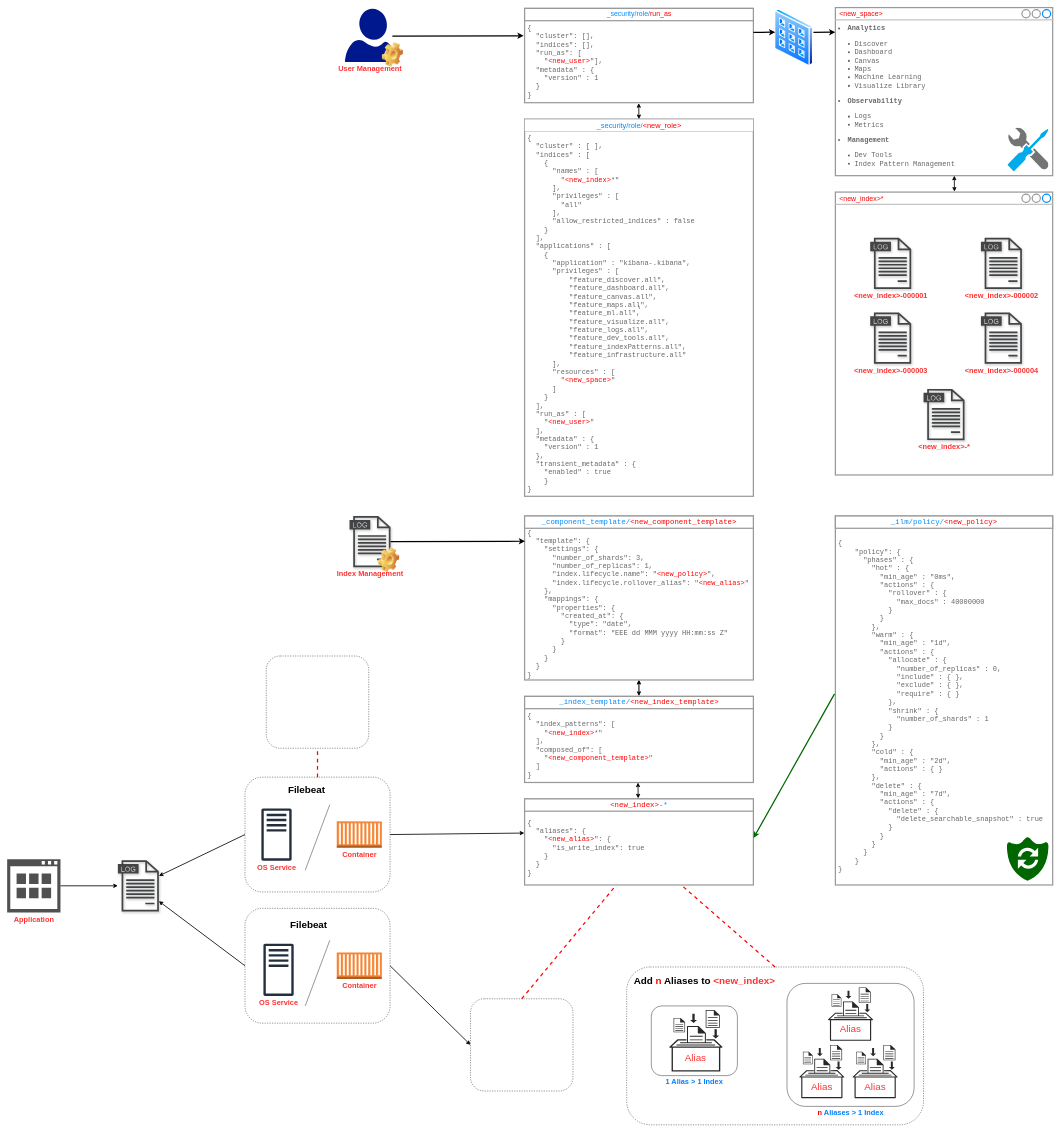
The diagram is 1060 pixels wide and 1132 high, and some of its shapes have lost their labels. The shapes that lost their labels are listed below. From the top down, each one's centre as x and y in pixels, then its label:
At point (793, 37): "Access".
At point (317, 702): "decode_json_fields".
At point (138, 886): "JSON log".
At point (521, 1044): "grok_pipeline".
